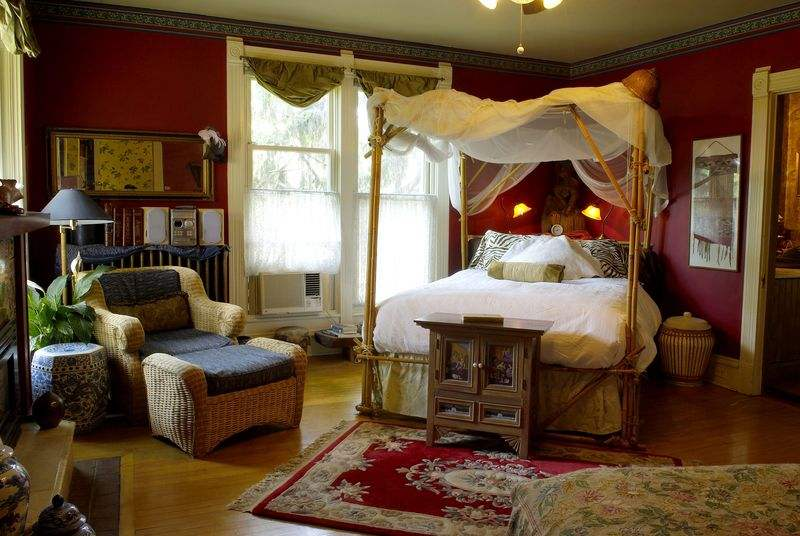床: (386, 256, 656, 445)
枕头: (472, 230, 623, 286)
灯: (39, 182, 101, 308), (477, 1, 567, 58), (497, 191, 533, 235), (581, 196, 615, 241)
